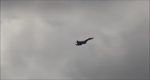maybay_muctieu: (75, 36, 93, 48)
